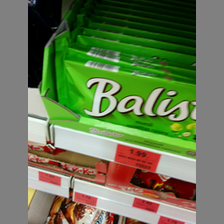chocolate: (55, 46, 197, 140)
